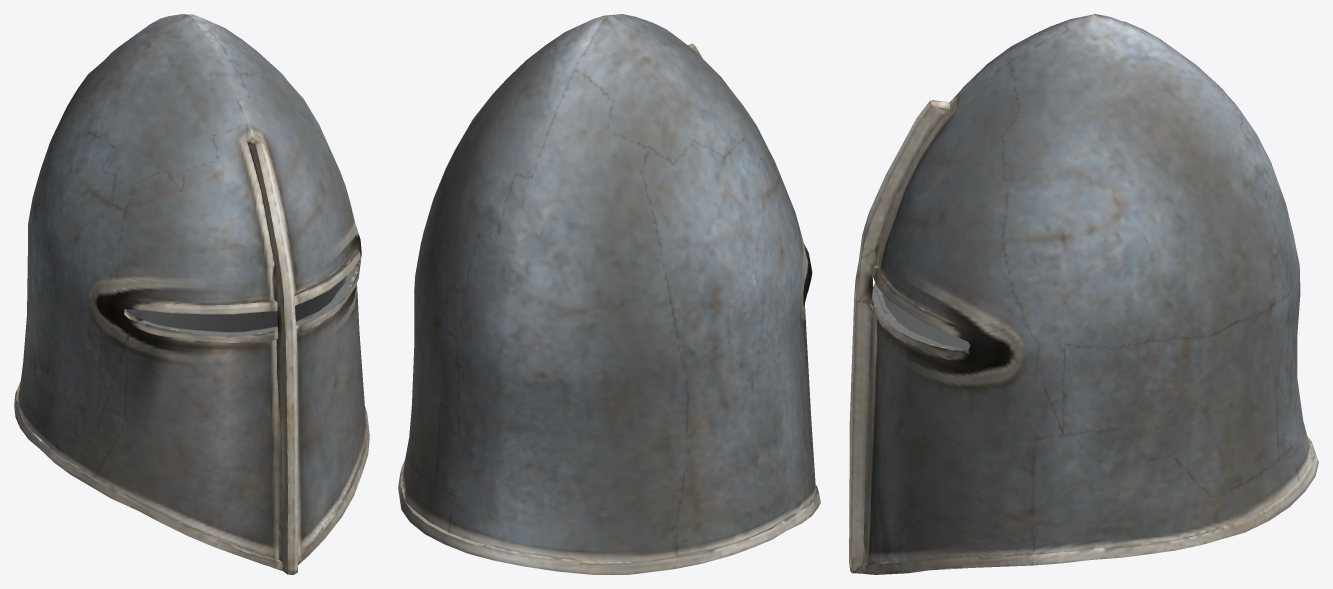
The model's file is item_mm9_10120.glb.
3 renders of one model, left to right at view 1: azimuth 30°, elevation 25°; view 2: azimuth 150°, elevation 25°; view 3: azimuth 270°, elevation 25°, orthographic. The views are drawn at different scales.
Parts seen in each view (by area): view 1: d10120; view 2: d10120; view 3: d10120.
Part boxes in pixels (x1,y1,x2,y2): d10120: (14,14,369,574); d10120: (398,14,820,574); d10120: (849,14,1318,574).
Bounding box in the file's own units: 0.6591 × 1 × 0.7642.
Materials: 1 (1 with a texture image).
